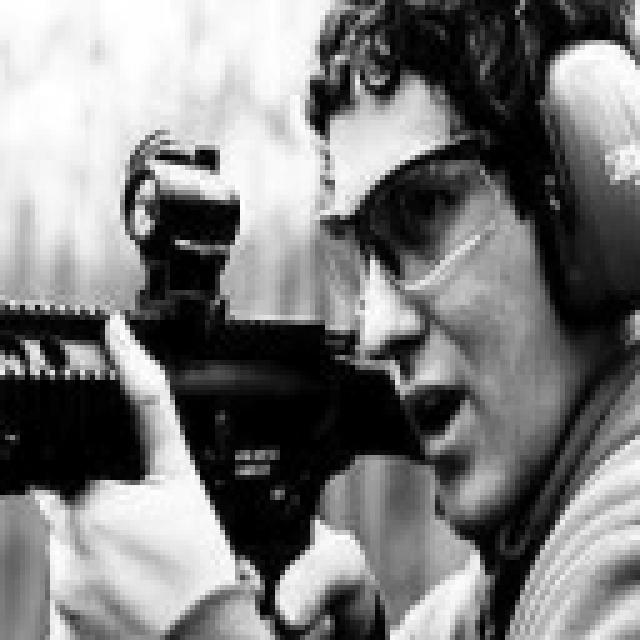Rifle: (0, 111, 453, 572)
